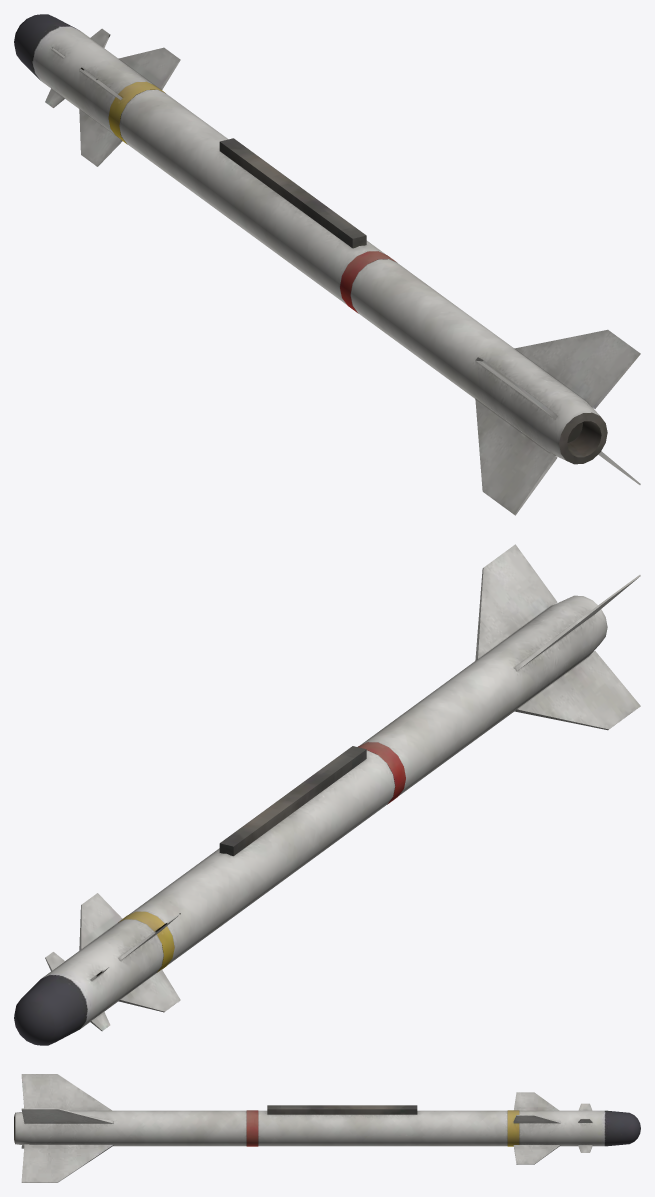
File: aam_ir.glb
3 renders of one model, top to bottom at view 1: azimuth 30°, elevation 25°; view 2: azimuth 150°, elevation 25°; view 3: azimuth 270°, elevation 25°, orthographic. The views are drawn at different scales.
Parts seen in each view (by area): view 1: body; view 2: body; view 3: body.
Part boxes in pixels (<box>): body: <box>14,14,640,515</box>; body: <box>14,544,640,1045</box>; body: <box>14,1074,640,1182</box>.
Size of the model in its own units: 0.2745 by 0.2745 by 2.09.
Materials: 1 (1 with a texture image).
